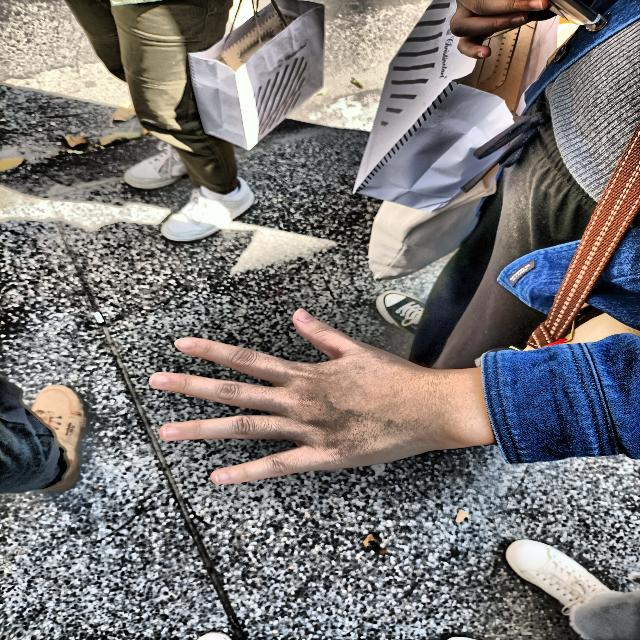not-gloved: (131, 295, 502, 503)
